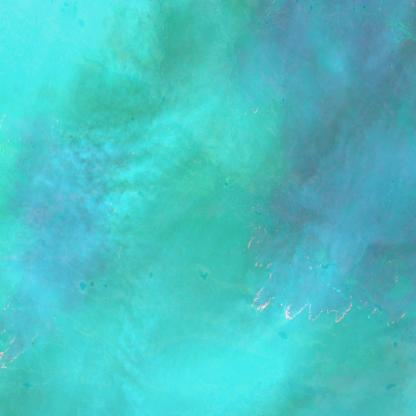fire: (240, 222, 416, 344), (0, 291, 30, 379)
